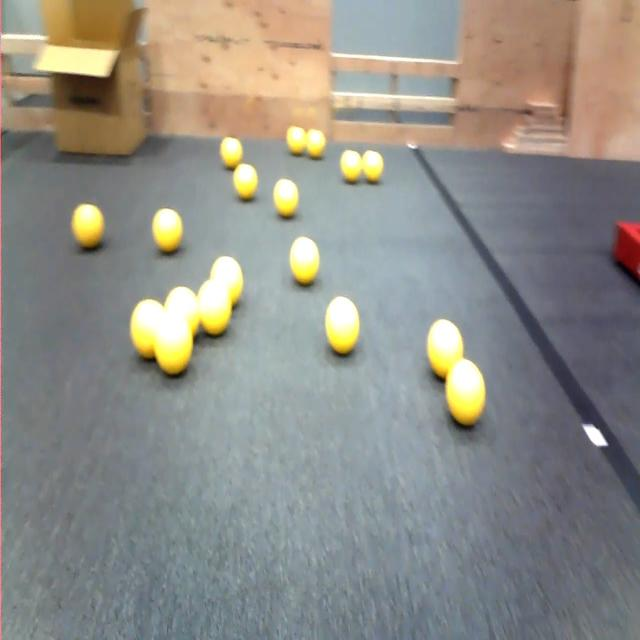fuel: (446, 360, 485, 427), (155, 310, 193, 375), (427, 320, 463, 378), (325, 296, 359, 355), (130, 299, 163, 359), (198, 280, 231, 335), (165, 287, 199, 335), (210, 256, 243, 305), (71, 204, 104, 249), (290, 237, 319, 286), (152, 208, 182, 253), (273, 179, 298, 217), (233, 164, 257, 200), (220, 137, 242, 169), (340, 150, 361, 183), (362, 151, 383, 183), (307, 129, 325, 159), (287, 127, 306, 155)
